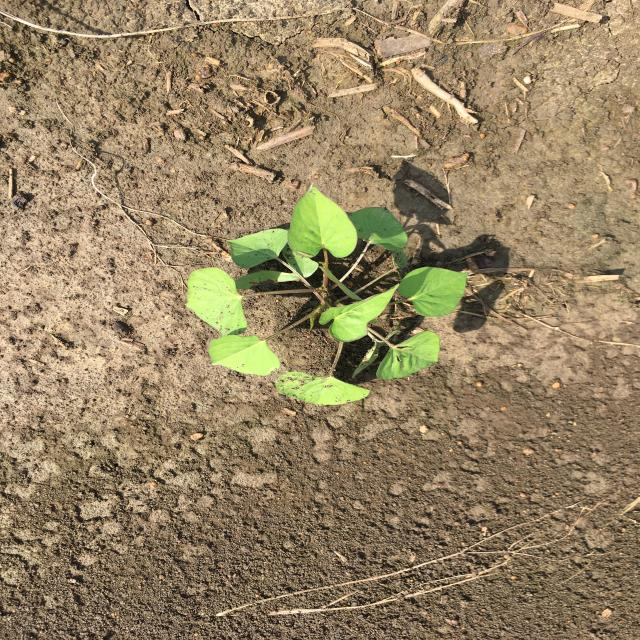MorningGlory: (182, 182, 471, 408)
